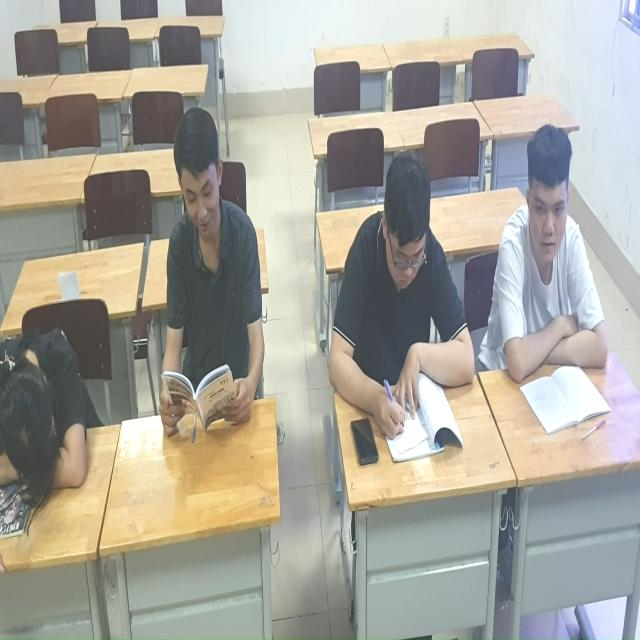read: (324, 143, 484, 461), (155, 86, 283, 470), (496, 94, 617, 428)
sleep: (1, 295, 101, 524)
